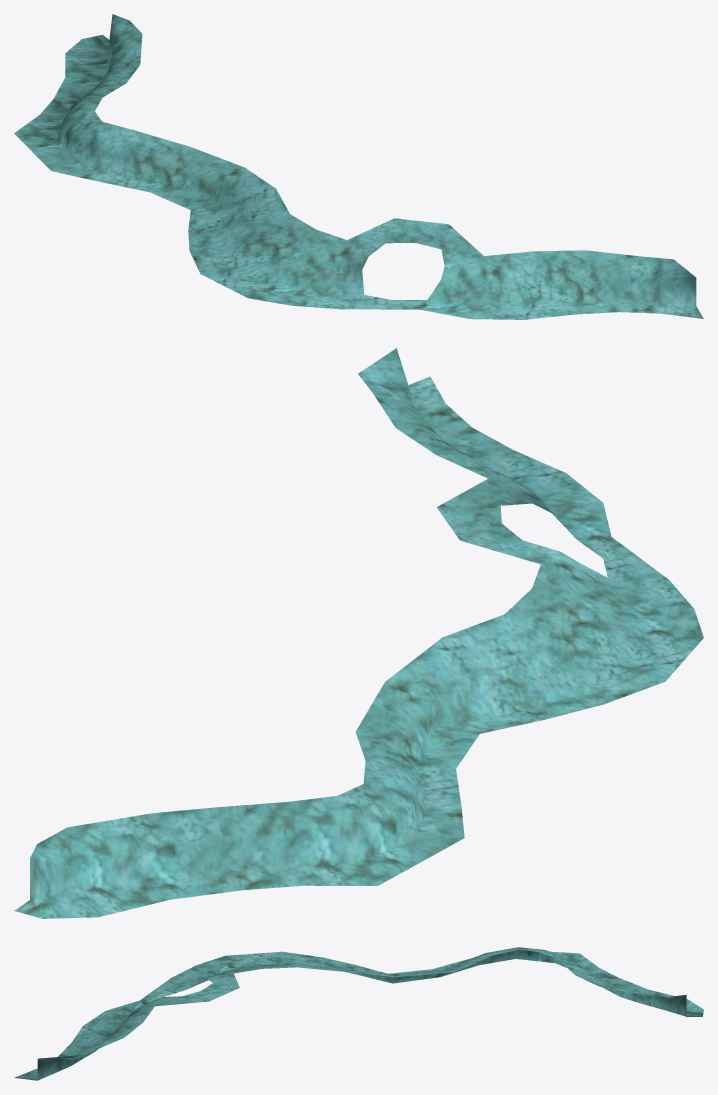
File: EKH_CAVERNS_PS_CA_LAKE_BANK_TRIN4646.fbx
3 renders of one model, top to bottom at view 1: azimuth 30°, elevation 25°; view 2: azimuth 150°, elevation 25°; view 3: azimuth 270°, elevation 25°, orthographic. The views are drawn at different scales.
Visible parts, largest first — view 1: EKH_CAVERNS_PS_CA_LAKE_BANK_TRIN4646; view 2: EKH_CAVERNS_PS_CA_LAKE_BANK_TRIN4646; view 3: EKH_CAVERNS_PS_CA_LAKE_BANK_TRIN4646.
Part boxes in pixels (x1,y1,x2,y2): EKH_CAVERNS_PS_CA_LAKE_BANK_TRIN4646: (14,14,703,319); EKH_CAVERNS_PS_CA_LAKE_BANK_TRIN4646: (14,348,703,918); EKH_CAVERNS_PS_CA_LAKE_BANK_TRIN4646: (14,947,703,1080).
Bounding box in the file's own units: 128076 × 12312 × 282380.
Materials: 1 (1 with a texture image).
